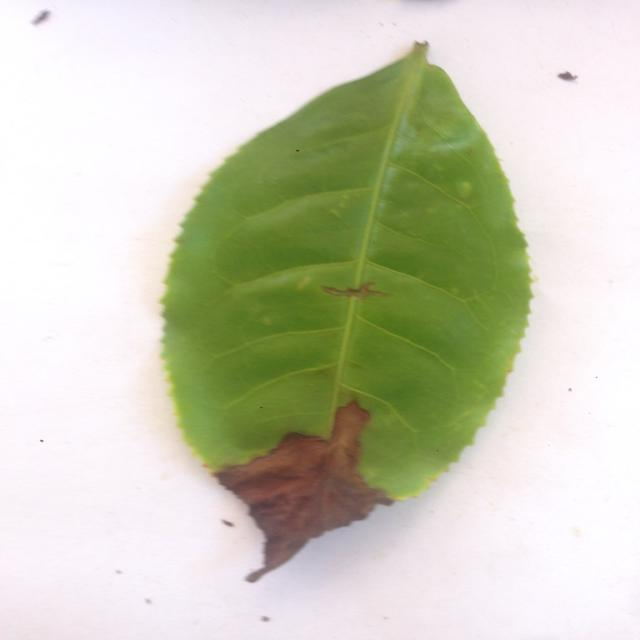Brown Blight: (162, 28, 550, 582)
